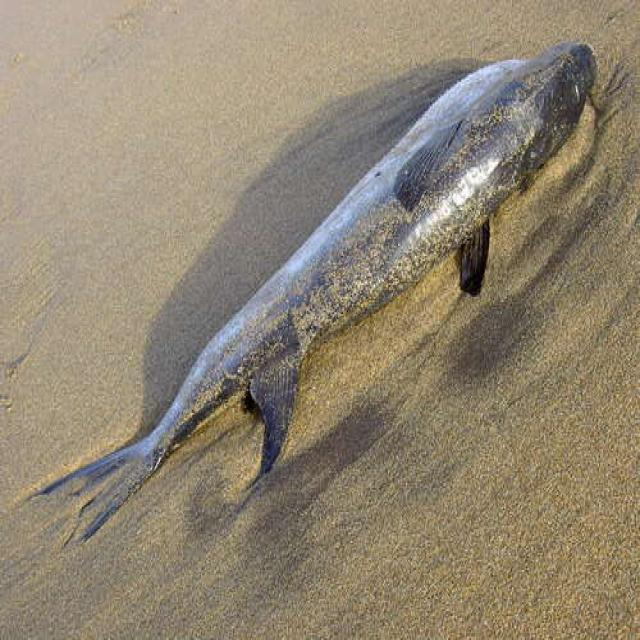Balik: (36, 43, 595, 539)
